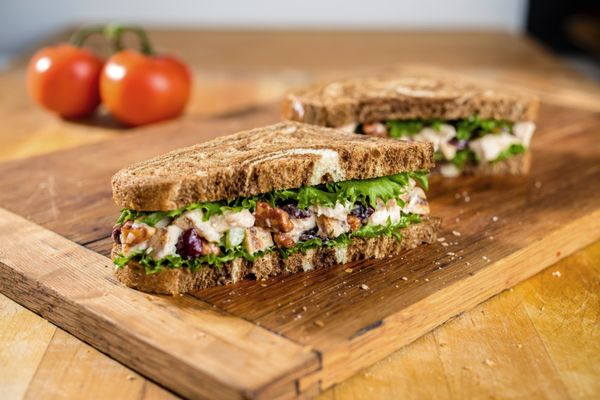soup: (107, 120, 438, 297), (280, 72, 541, 195)
